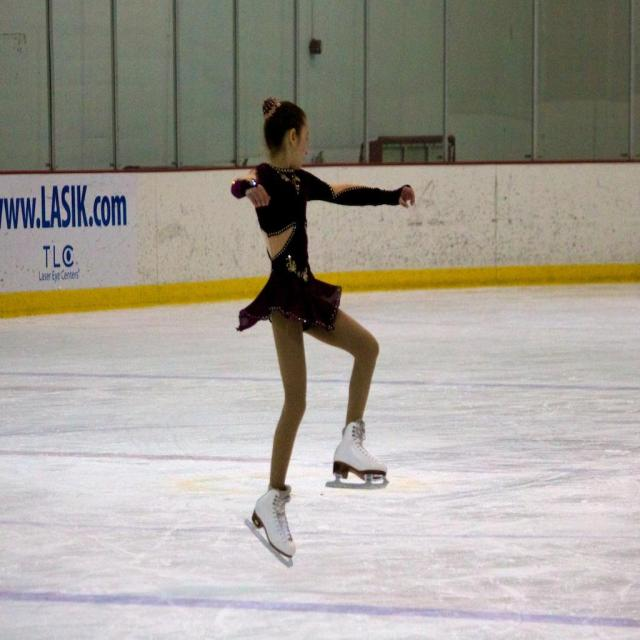nomask: (290, 115, 308, 167)
